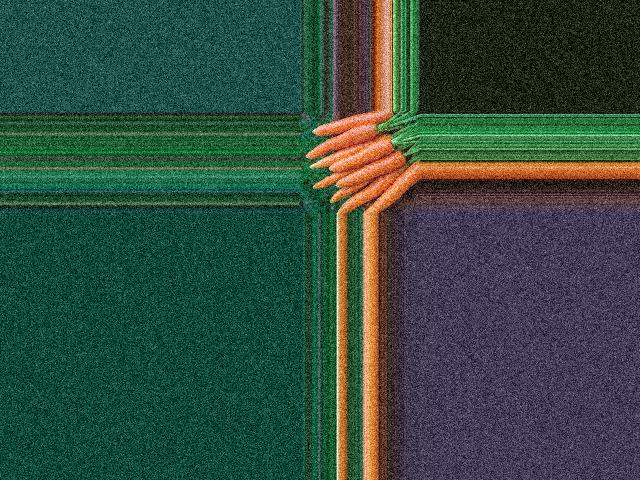carrot: (354, 156, 418, 214)
